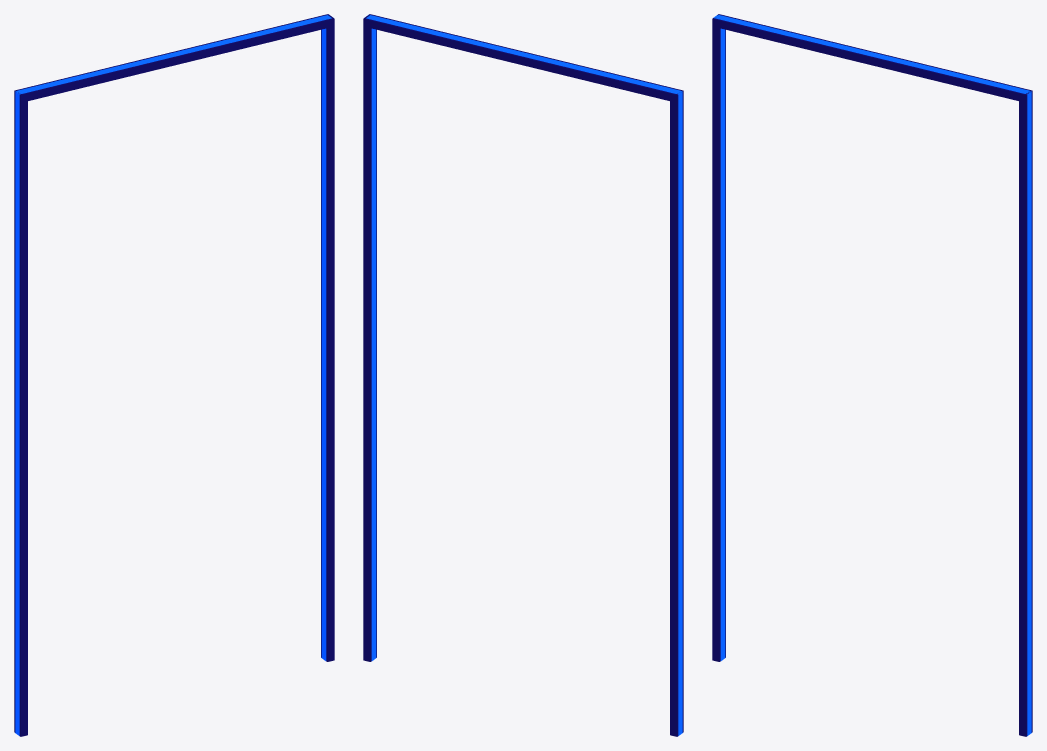
The model's file is door.glb.
3 views of the same model, side by side, from view 1: azimuth 30°, elevation 25°; view 2: azimuth 150°, elevation 25°; view 3: azimuth 330°, elevation 25° (orthographic).
Visible parts, largest first — view 1: RightWall (2), LeftWall (1), LeftInnerWall, Roof (2), RightInnerWall, Roof (1); view 2: RightWall (2), LeftWall (1), LeftInnerWall, Roof (2), RightInnerWall, Roof (1); view 3: LeftWall (1), RightWall (2), RightInnerWall, Roof (2), LeftInnerWall, Roof (1).
Boxes of the visible parts, left/top/right/bottom form: RightWall (2): left=14, top=89, right=27, bottom=736; LeftWall (1): left=321, top=14, right=334, bottom=661; LeftInnerWall: left=321, top=17, right=333, bottom=660; Roof (2): left=22, top=16, right=330, bottom=100; RightInnerWall: left=15, top=91, right=20, bottom=735; Roof (1): left=17, top=15, right=331, bottom=93; RightWall (2): left=670, top=89, right=683, bottom=736; LeftWall (1): left=363, top=14, right=376, bottom=661; LeftInnerWall: left=364, top=15, right=376, bottom=660; Roof (2): left=367, top=16, right=675, bottom=101; RightInnerWall: left=677, top=91, right=682, bottom=735; Roof (1): left=366, top=15, right=680, bottom=93; LeftWall (1): left=1019, top=89, right=1032, bottom=736; RightWall (2): left=712, top=14, right=725, bottom=661; RightInnerWall: left=713, top=14, right=725, bottom=660; Roof (2): left=716, top=16, right=1024, bottom=100; LeftInnerWall: left=1027, top=91, right=1031, bottom=735; Roof (1): left=715, top=15, right=1029, bottom=93.
Size of the model in its own units: 1.02 by 2 by 0.0365.
